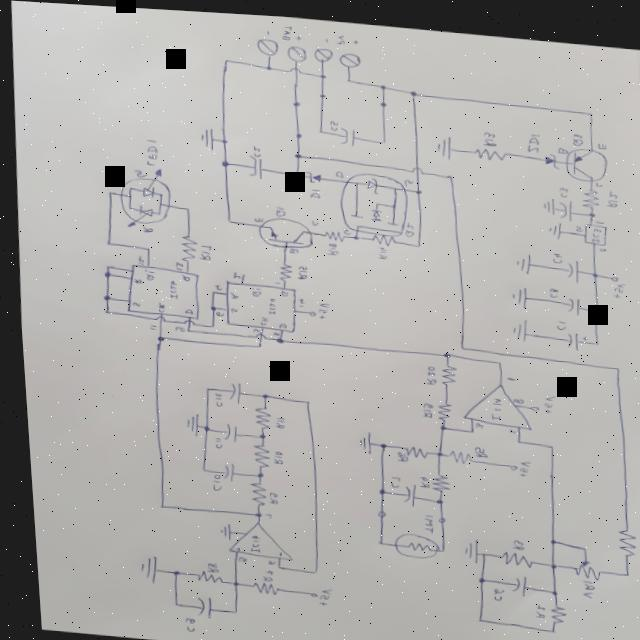capacitor: (560, 323, 586, 345), (241, 150, 263, 176), (185, 593, 206, 617), (560, 250, 579, 275), (394, 477, 412, 503), (554, 191, 572, 215), (337, 122, 357, 142), (503, 568, 522, 589), (223, 378, 239, 400), (562, 289, 579, 308), (218, 420, 234, 440), (214, 459, 230, 478)
crossover: (288, 63, 301, 70), (409, 161, 422, 168), (250, 329, 264, 335), (178, 316, 190, 323), (150, 313, 162, 319)
diode: (112, 161, 172, 229), (538, 143, 560, 164), (302, 166, 321, 180)
ground: (131, 551, 151, 583), (505, 278, 527, 304), (195, 122, 216, 148), (455, 530, 473, 558), (505, 311, 525, 336), (433, 128, 452, 154), (511, 244, 530, 268), (178, 409, 194, 434), (351, 427, 367, 450), (543, 213, 561, 233), (212, 519, 228, 539), (538, 190, 554, 208)
junction: (289, 95, 300, 104), (291, 128, 301, 136), (437, 345, 448, 352), (270, 333, 281, 340), (408, 84, 418, 91), (98, 292, 108, 299), (378, 78, 387, 85), (292, 148, 300, 155), (291, 167, 299, 174), (542, 555, 550, 562), (444, 167, 452, 174), (165, 599, 173, 606), (220, 157, 228, 164), (224, 577, 232, 584), (371, 483, 380, 489), (222, 606, 231, 612), (429, 493, 438, 499), (573, 538, 582, 544), (378, 96, 387, 102), (374, 437, 381, 444), (588, 301, 596, 307), (540, 621, 548, 627), (151, 501, 159, 507), (222, 54, 230, 60), (491, 353, 499, 359), (468, 611, 476, 617), (412, 183, 420, 189), (586, 103, 594, 109), (588, 264, 596, 270), (433, 419, 441, 425), (251, 338, 259, 344), (317, 87, 325, 93), (220, 135, 227, 141), (370, 534, 377, 540), (510, 432, 517, 438), (318, 69, 326, 74), (264, 62, 272, 67), (454, 339, 462, 344), (542, 437, 550, 442), (140, 244, 148, 249), (152, 333, 160, 338), (99, 270, 107, 275), (268, 561, 276, 566), (250, 469, 258, 474), (105, 188, 111, 194), (544, 583, 550, 589), (199, 422, 205, 428), (299, 395, 306, 400), (316, 124, 323, 129), (304, 565, 311, 570), (204, 321, 211, 326), (205, 303, 212, 308), (223, 215, 230, 220), (350, 230, 357, 235), (586, 204, 593, 209), (615, 564, 623, 568), (542, 533, 550, 537), (165, 568, 173, 572), (99, 308, 107, 312), (249, 509, 255, 514), (344, 73, 351, 77), (194, 465, 201, 469), (102, 239, 109, 243), (412, 238, 419, 242), (471, 572, 478, 576), (463, 423, 470, 427), (379, 135, 385, 139), (610, 359, 616, 363), (182, 204, 188, 208), (590, 334, 596, 338), (430, 446, 436, 450), (181, 325, 187, 329), (254, 431, 260, 435), (257, 391, 263, 395), (200, 384, 206, 388), (103, 263, 108, 267), (207, 287, 213, 290), (474, 545, 478, 549)
resistor: (386, 526, 433, 554), (491, 543, 526, 562), (566, 551, 596, 573), (609, 518, 630, 549), (176, 231, 196, 259), (470, 140, 507, 155), (576, 179, 600, 202), (247, 401, 268, 427), (245, 439, 266, 465), (242, 477, 262, 503), (434, 357, 454, 381), (540, 596, 560, 618), (423, 467, 445, 487), (244, 577, 272, 592), (187, 568, 217, 581), (442, 443, 466, 459), (430, 395, 448, 416), (366, 228, 394, 241), (274, 257, 290, 278), (397, 440, 422, 453), (317, 225, 342, 238)
terminal: (254, 34, 280, 52), (286, 40, 308, 59), (338, 47, 361, 64), (312, 41, 333, 58), (525, 397, 535, 405), (607, 267, 616, 274), (303, 306, 313, 312), (302, 587, 310, 594), (504, 458, 512, 464), (431, 511, 439, 517), (370, 505, 378, 511), (237, 269, 243, 273)
text: (139, 135, 158, 163), (484, 390, 498, 415), (524, 125, 540, 146), (194, 240, 212, 258), (537, 387, 553, 407), (418, 359, 433, 380), (162, 276, 177, 297), (480, 123, 497, 141), (413, 396, 430, 414), (511, 453, 528, 471), (309, 583, 325, 602), (573, 571, 588, 591), (602, 182, 618, 199), (415, 508, 429, 527), (278, 20, 294, 36), (607, 274, 623, 290), (291, 259, 306, 276), (242, 530, 254, 551), (464, 439, 483, 452), (312, 297, 326, 314), (203, 472, 217, 489), (261, 292, 273, 311), (399, 216, 413, 232), (569, 124, 583, 139), (265, 446, 279, 460), (588, 219, 600, 235), (268, 411, 281, 425), (323, 238, 336, 252), (271, 201, 285, 214), (254, 565, 267, 579), (175, 615, 188, 629), (140, 266, 154, 279), (304, 183, 320, 194), (548, 244, 561, 257), (382, 470, 395, 483), (248, 142, 261, 155), (526, 598, 538, 612), (373, 240, 385, 254), (390, 445, 404, 457), (208, 389, 219, 404), (503, 533, 519, 543), (484, 582, 497, 594), (556, 179, 569, 191), (551, 312, 564, 323), (262, 488, 273, 501), (544, 280, 556, 291), (327, 114, 338, 126), (413, 470, 423, 482), (131, 167, 146, 175), (152, 300, 162, 311), (292, 292, 302, 303), (594, 133, 606, 142), (208, 434, 217, 446), (132, 253, 142, 263), (335, 30, 345, 40), (171, 258, 182, 267), (199, 560, 210, 569), (226, 288, 237, 297), (401, 173, 413, 181), (275, 285, 287, 293), (247, 284, 259, 292), (507, 390, 520, 397), (634, 526, 640, 541), (332, 165, 342, 173), (209, 280, 219, 288), (256, 312, 264, 322), (254, 508, 265, 515), (285, 243, 296, 250), (250, 212, 261, 219), (555, 139, 566, 146), (499, 369, 511, 375), (179, 305, 191, 311), (266, 326, 276, 333), (247, 324, 257, 331), (140, 224, 150, 231), (339, 223, 349, 230), (130, 276, 140, 283), (171, 323, 182, 329), (231, 553, 242, 559), (177, 272, 188, 278), (128, 298, 139, 304), (228, 268, 237, 275), (469, 416, 479, 422), (225, 304, 235, 310), (274, 318, 284, 324), (351, 33, 359, 40), (322, 32, 331, 38), (145, 322, 153, 328), (260, 555, 268, 561), (211, 308, 219, 314), (308, 215, 316, 221), (593, 174, 601, 180), (573, 218, 581, 224), (270, 276, 279, 281), (263, 25, 270, 31), (294, 30, 301, 36), (271, 547, 277, 554), (502, 422, 510, 427), (596, 239, 604, 244), (229, 543, 236, 548), (593, 212, 601, 216)
transistor: (334, 166, 410, 233), (251, 212, 314, 247), (560, 138, 607, 176)
